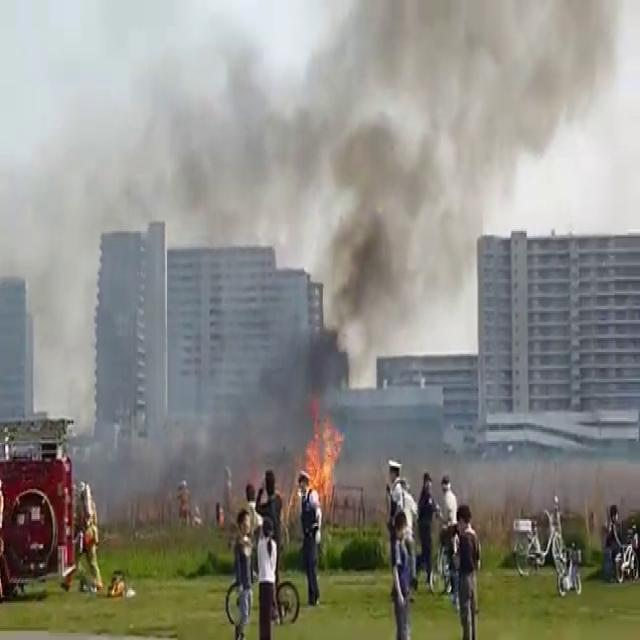Fire: (295, 399, 347, 506)
Smoke: (0, 1, 602, 458)
